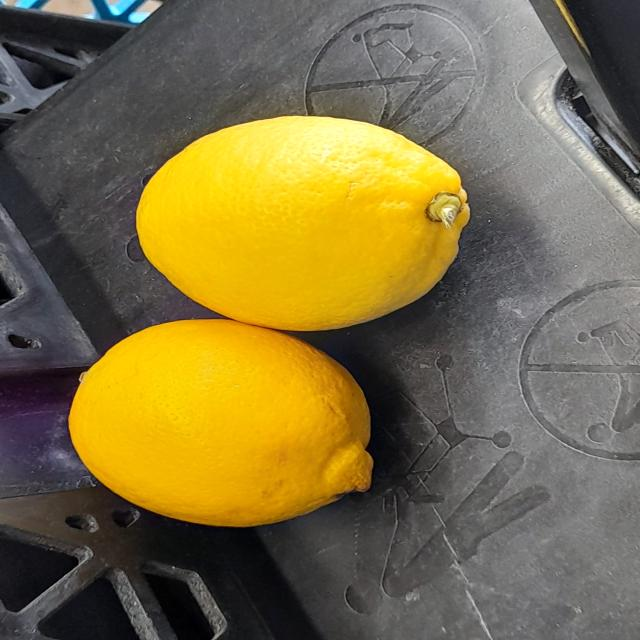lemon: (100, 101, 507, 342), (55, 314, 412, 533)
